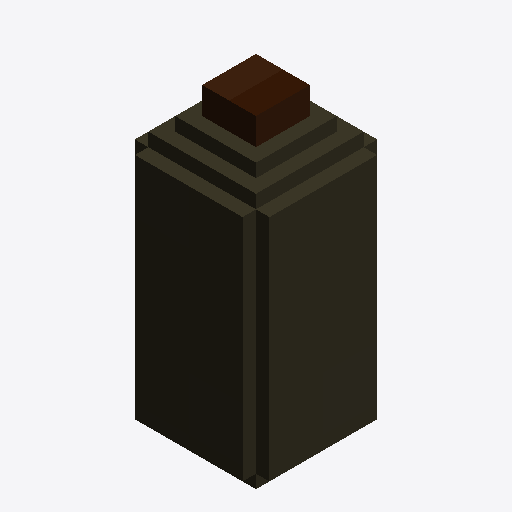
A Minecraft block model of 14 cuboids, rendered isometrically (azimuth 45°, elevation 35.3°) with the resource pack's own textures.
Visible parts, largest first — element 11, element 14, element 2, element 8, element 5, element 6, element 9, element 4, element 7.
Boxes of the visible parts, x1=… form: element 11: x1=135, y1=147, x2=255, y2=480; element 14: x1=256, y1=147, x2=376, y2=480; element 2: x1=202, y1=54, x2=309, y2=146; element 8: x1=148, y1=124, x2=268, y2=208; element 5: x1=243, y1=108, x2=336, y2=177; element 6: x1=256, y1=132, x2=349, y2=201; element 9: x1=189, y1=116, x2=254, y2=169; element 4: x1=175, y1=101, x2=201, y2=138; element 7: x1=337, y1=116, x2=363, y2=154.
Size of the model in its own units: 2.5 by 5.5 by 2.5.